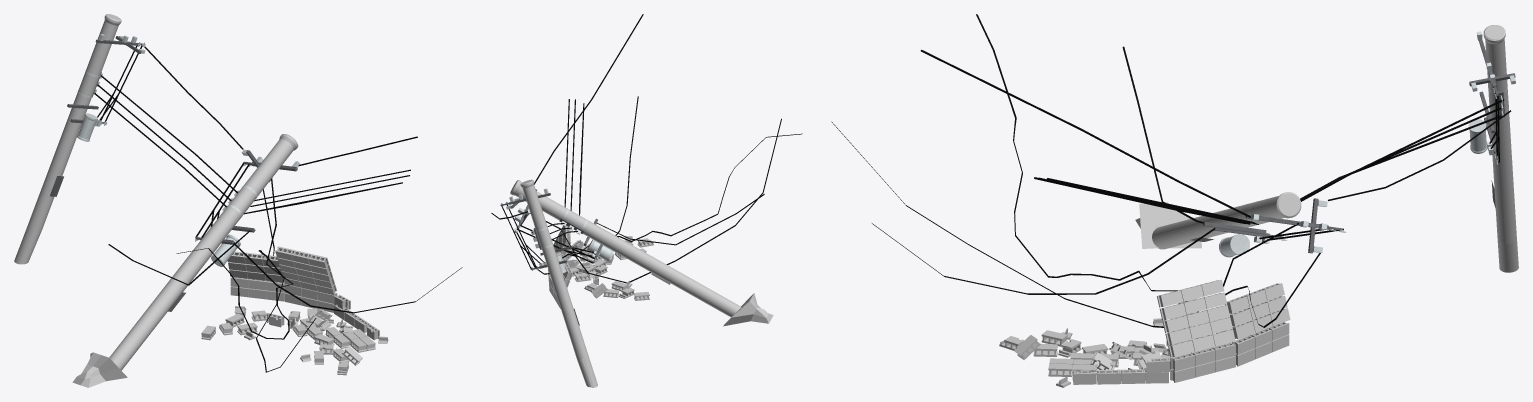
The model's file is denntyu.obj.
The picture shows the model from 3 angles, left to right: view 1: azimuth 30°, elevation 25°; view 2: azimuth 150°, elevation 25°; view 3: azimuth 270°, elevation 25°; orthographic projection. The views are drawn at different scales.
Parts seen in each view (by area): view 1: Cylinder, Cylinder.003_Cylinder.001, Cube.052_Cube, Cube.051, Cube.025, Cylinder.004, Cylinder.001_Cylinder.002, Cube.038, Cube.029, Cube.043, Cube.040, Cube.039 (+11 smaller); view 2: Cylinder, Cylinder.003_Cylinder.001, Cube.052_Cube, Cylinder.001_Cylinder.002, Cube.025, Cube.030, Cylinder.004, Cube.029, Cube.028, Cube.031, Cube.023, Cube.055_Cube.054; view 3: Cylinder.003_Cylinder.001, Cylinder, Cylinder.001_Cylinder.002, Cube.051, Cube.052_Cube, Cylinder.004, Cube.025, Cube.029, Cube.020, Cube.033, Cube.028, Cube.035 (+13 smaller).
Boxes of the visible parts, x1=… form: Cylinder: x1=109, y1=134, x2=298, y2=370; Cylinder.003_Cylinder.001: x1=14, y1=14, x2=121, y2=264; Cube.052_Cube: x1=72, y1=352, x2=127, y2=387; Cube.051: x1=94, y1=75, x2=237, y2=207; Cube.025: x1=244, y1=169, x2=410, y2=214; Cylinder.004: x1=50, y1=34, x2=145, y2=196; Cylinder.001_Cylinder.002: x1=168, y1=149, x2=300, y2=311; Cube.038: x1=275, y1=246, x2=328, y2=268; Cube.029: x1=176, y1=178, x2=293, y2=339; Cube.043: x1=227, y1=251, x2=279, y2=267; Cube.040: x1=230, y1=277, x2=284, y2=292; Cube.039: x1=230, y1=286, x2=284, y2=301; Cylinder: x1=510, y1=180, x2=741, y2=317; Cylinder.003_Cylinder.001: x1=520, y1=179, x2=597, y2=387; Cube.052_Cube: x1=723, y1=293, x2=773, y2=326; Cylinder.001_Cylinder.002: x1=514, y1=189, x2=670, y2=284; Cube.025: x1=564, y1=99, x2=584, y2=215; Cube.030: x1=517, y1=118, x2=781, y2=283; Cylinder.004: x1=500, y1=188, x2=579, y2=325; Cube.029: x1=524, y1=133, x2=802, y2=254; Cube.028: x1=534, y1=14, x2=643, y2=184; Cube.031: x1=597, y1=194, x2=764, y2=245; Cube.023: x1=517, y1=225, x2=594, y2=263; Cube.055_Cube.054: x1=501, y1=204, x2=544, y2=269; Cylinder.003_Cylinder.001: x1=1483, y1=25, x2=1518, y2=272; Cylinder: x1=1152, y1=192, x2=1301, y2=249; Cylinder.001_Cylinder.002: x1=1190, y1=198, x2=1346, y2=253; Cube.051: x1=1300, y1=99, x2=1504, y2=201; Cube.052_Cube: x1=1135, y1=202, x2=1201, y2=248; Cylinder.004: x1=1469, y1=31, x2=1515, y2=207; Cube.025: x1=1034, y1=177, x2=1258, y2=224; Cube.029: x1=976, y1=14, x2=1298, y2=291; Cube.020: x1=1097, y1=369, x2=1168, y2=384; Cube.033: x1=1170, y1=342, x2=1235, y2=371; Cube.028: x1=920, y1=49, x2=1250, y2=217; Cube.035: x1=1165, y1=317, x2=1232, y2=344.
Size of the model in its own units: 8.22 by 6.91 by 13.03.
